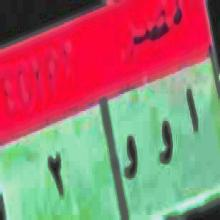2: (46, 149, 66, 204)
alif: (185, 90, 203, 140)
waw: (154, 116, 175, 175), (124, 129, 140, 189)
